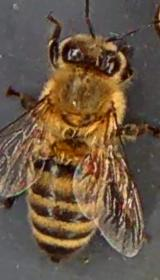varroa_mite: (72, 149, 102, 180)
